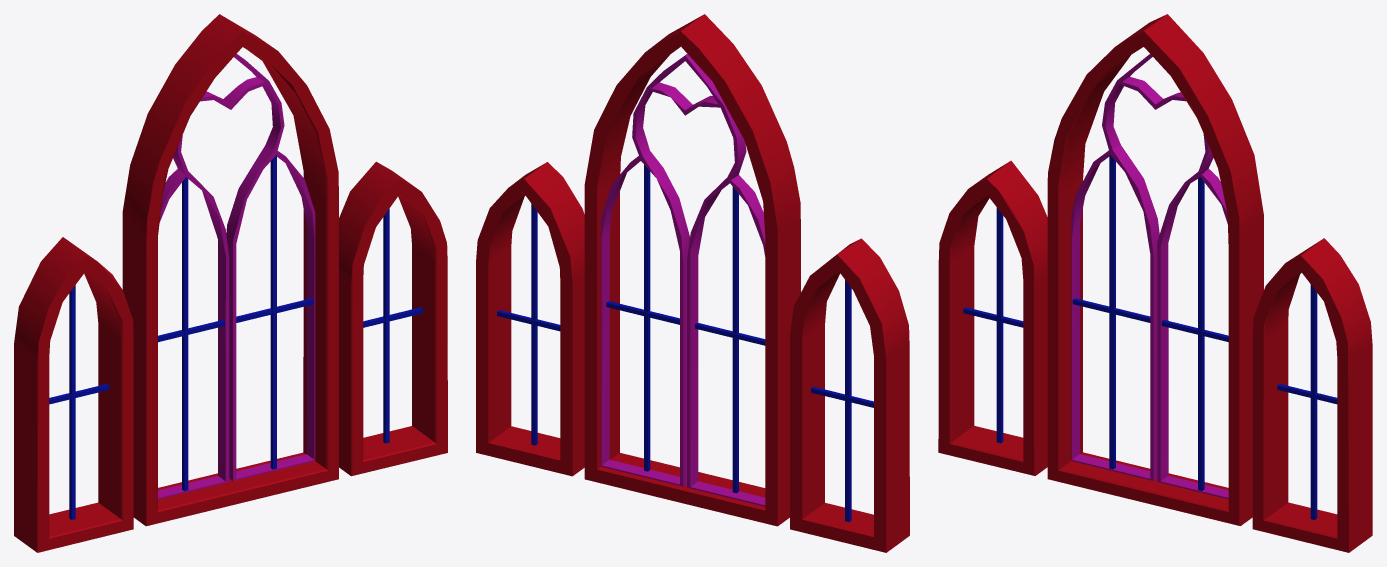
Rendered from DungeonWall_2x_Window_Pane.fbx.
The picture shows the model from 3 angles, left to right: view 1: azimuth 30°, elevation 25°; view 2: azimuth 150°, elevation 25°; view 3: azimuth 330°, elevation 25°; orthographic projection.
Parts seen in each view (by area): view 1: DungeonWall_2x_Window_Pane; view 2: DungeonWall_2x_Window_Pane; view 3: DungeonWall_2x_Window_Pane.
Part boxes in pixels (x1,y1,x2,y2): DungeonWall_2x_Window_Pane: [14, 14, 447, 552]; DungeonWall_2x_Window_Pane: [476, 14, 909, 552]; DungeonWall_2x_Window_Pane: [938, 14, 1372, 552].
Size of the model in its own units: 602 by 60.59 by 661.
